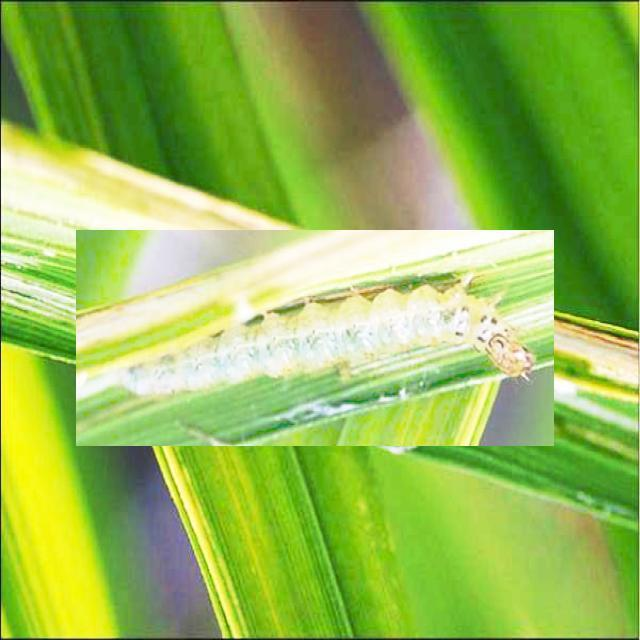leaf-folder: (76, 230, 554, 446)
